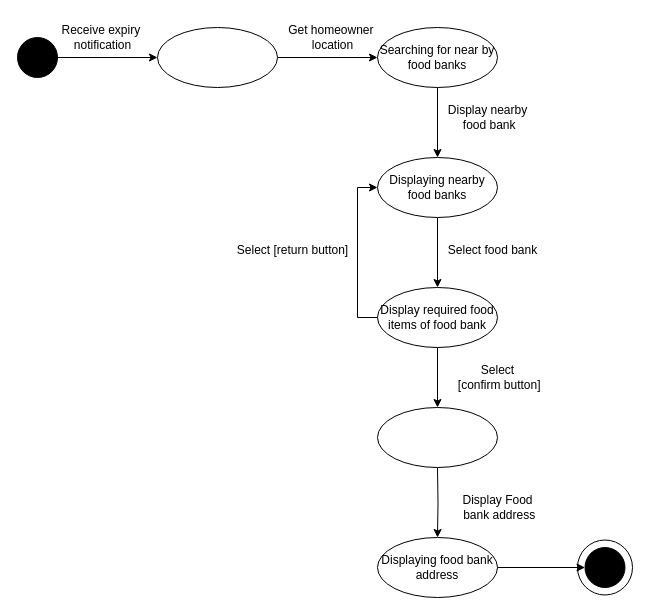
The diagram is 650 pixels wide and 615 high, and some of its shapes have lost their labels. The shapes that lost their labels are listed below. From the top down, each one's centre as x and y in pixels, then its label:
At [217,57]: "Confirming notification".
At [437,437]: "Confirm selected food bank".
